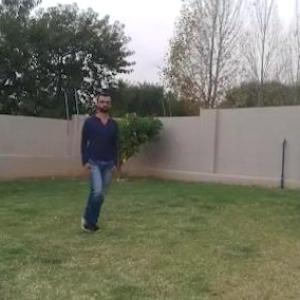follow: (80, 87, 115, 225)
